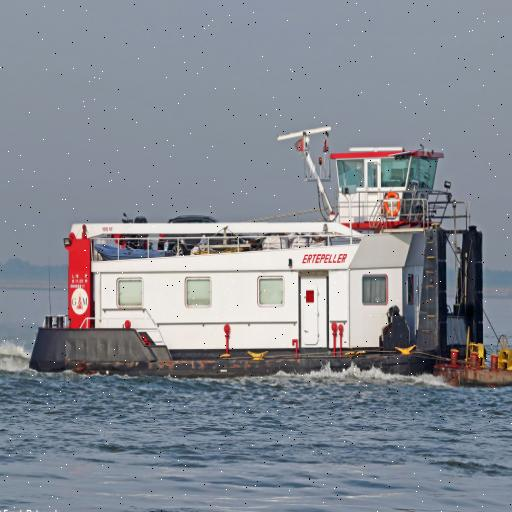tugboat: (25, 122, 492, 388)
